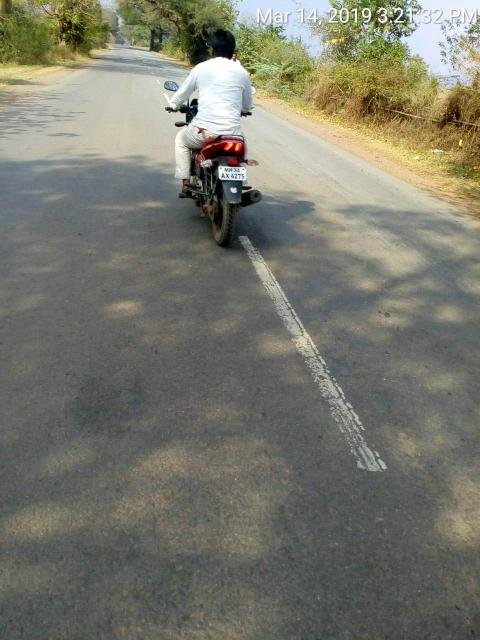motor: (195, 136, 264, 247)
